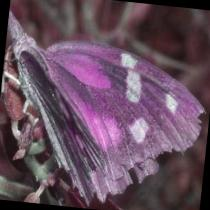butterfly: (7, 14, 203, 204)
